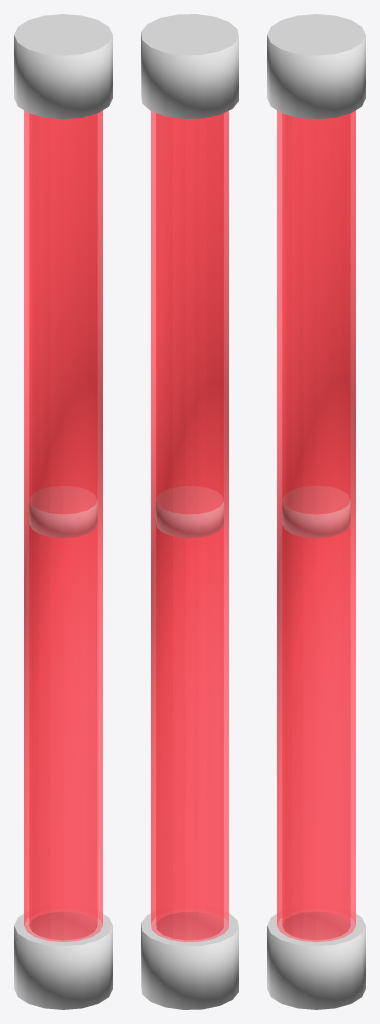
File: groanTube.fbx
3 renders of one model, left to right at view 1: azimuth 90°, elevation 25°; view 2: azimuth 150°, elevation 25°; view 3: azimuth 270°, elevation 25°, orthographic.
Visible parts, largest first — view 1: Cylinder, Cylinder.001; view 2: Cylinder, Cylinder.001; view 3: Cylinder, Cylinder.001.
Boxes of the visible parts, x1=… form: Cylinder: x1=14, y1=14, x2=112, y2=1009; Cylinder.001: x1=29, y1=486, x2=97, y2=537; Cylinder: x1=141, y1=14, x2=238, y2=1009; Cylinder.001: x1=156, y1=486, x2=223, y2=537; Cylinder: x1=267, y1=14, x2=365, y2=1009; Cylinder.001: x1=282, y1=486, x2=350, y2=537.
Size of the model in its own units: 3.75 by 40 by 3.75.
